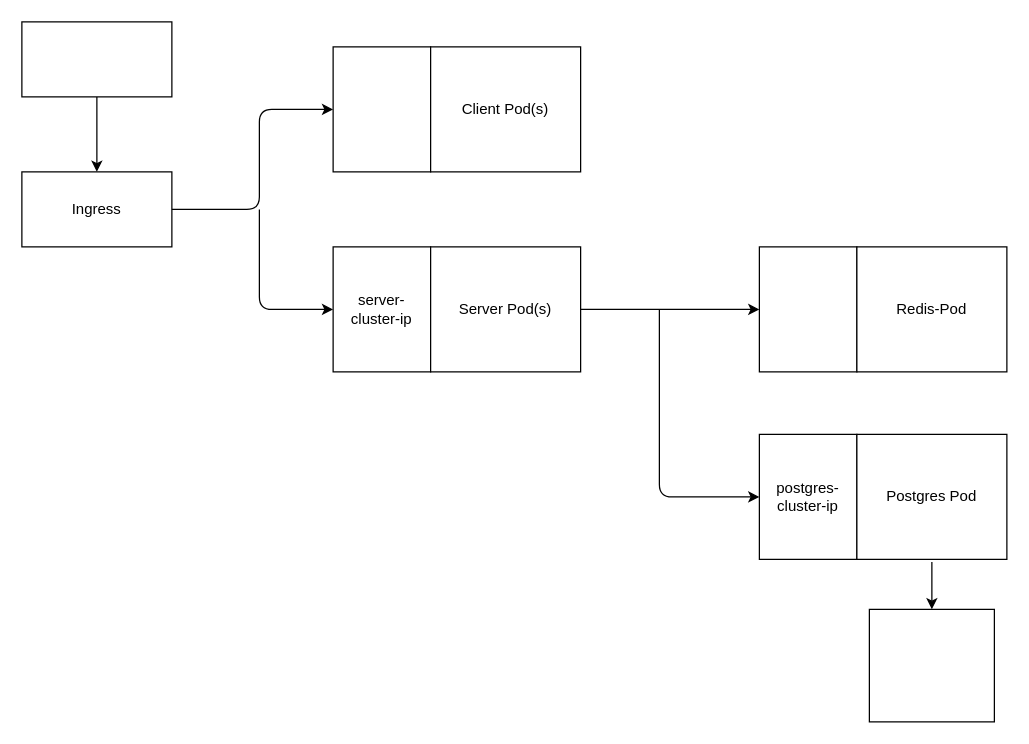
Image size: 1029x744. Some labels were removed from this diagram. The centre of each missing label's shape, as x and y in pixels:
"Browser" goes at point (96, 59).
"client-cluster-ip" goes at point (381, 109).
"Persistent Volume Claim" goes at point (931, 665).
"redis-cluster-ip" goes at point (807, 309).
